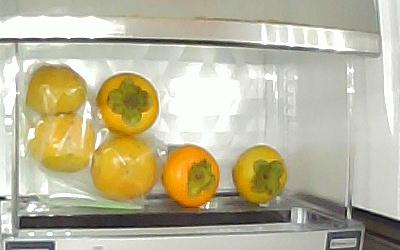persimmon: (95, 72, 160, 136), (161, 144, 220, 207), (233, 145, 289, 206)
persimmon_vinyl: (91, 136, 157, 200), (29, 116, 95, 170), (25, 64, 89, 115)
